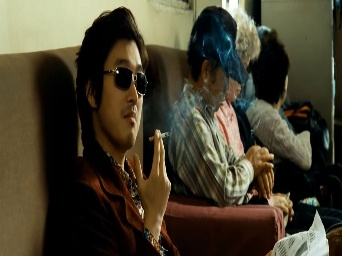smoke: (147, 132, 170, 139)
